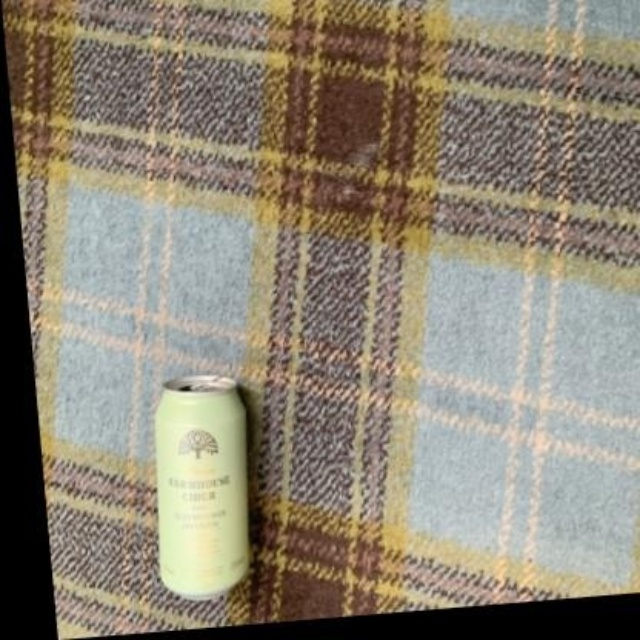trash: (155, 375, 248, 597)
